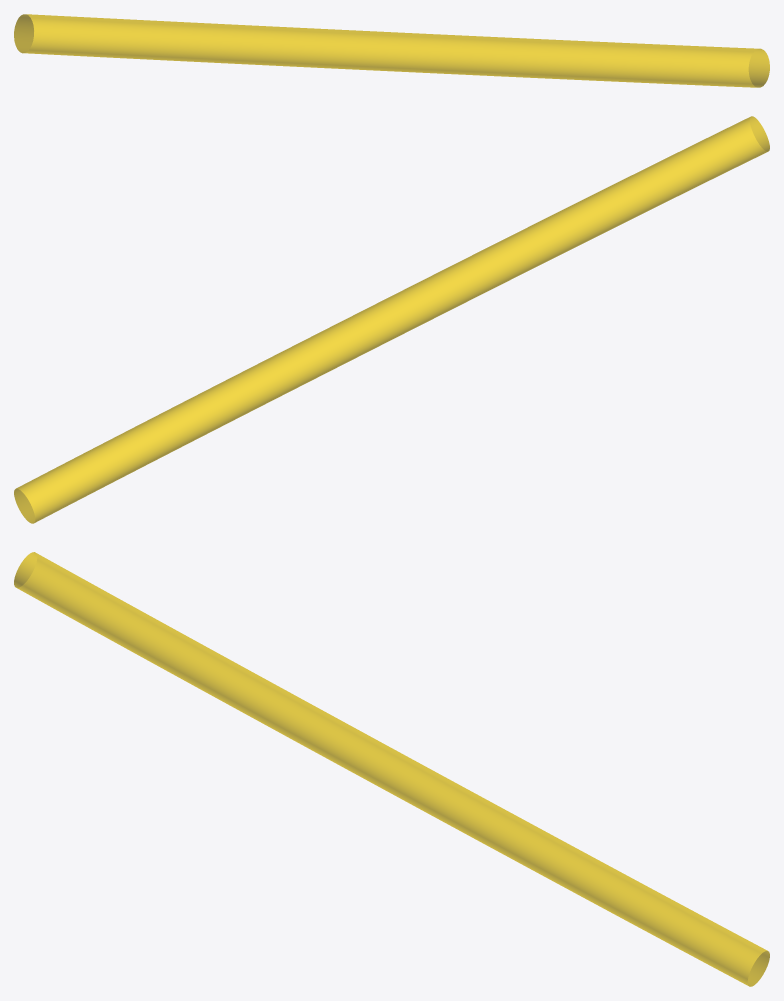
Rendered from Event_75125125_track_45.fbx.
The picture shows the model from 3 angles, top to bottom: view 1: azimuth 30°, elevation 25°; view 2: azimuth 210°, elevation 25°; view 3: azimuth 330°, elevation 25°; orthographic projection. The views are drawn at different scales.
Parts seen in each view (by area): view 1: Model; view 2: Model; view 3: Model.
Boxes of the visible parts, x1,y1,x2,y2 form: Model: (14, 14, 769, 87); Model: (14, 116, 769, 523); Model: (14, 552, 769, 986).
Bounding box in the file's own units: 0.8613 × 0.267 × 0.062.
